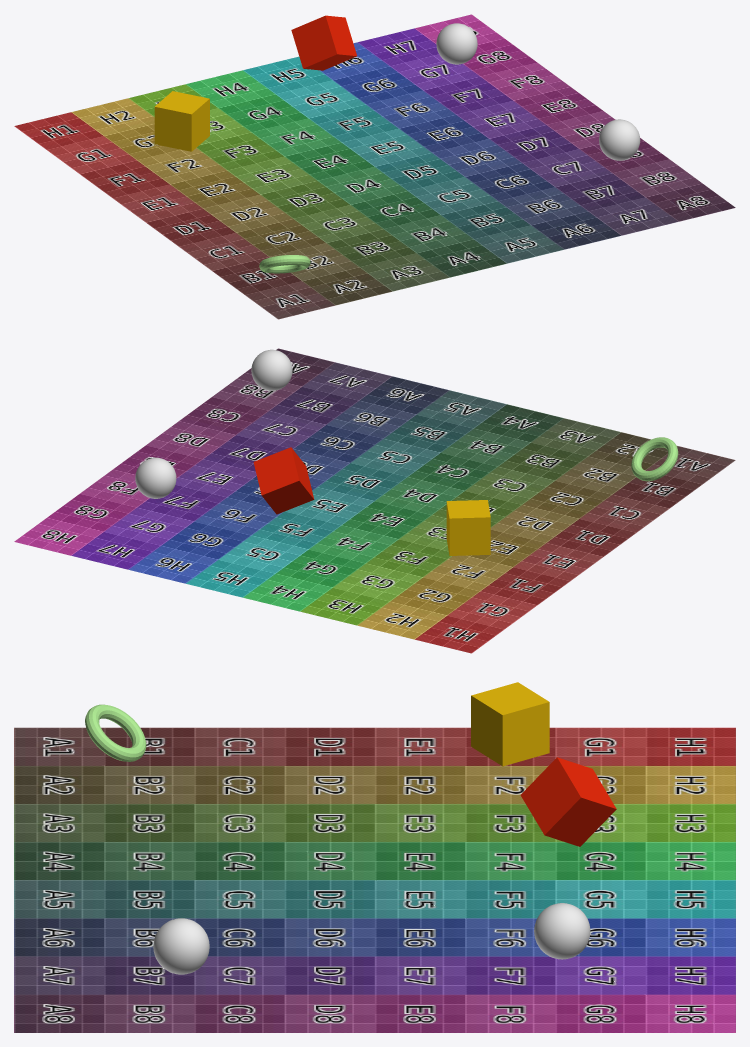
3 views of the same model, one above another, from view 1: azimuth 30°, elevation 25°; view 2: azimuth 150°, elevation 25°; view 3: azimuth 270°, elevation 25° (orthographic). The views are drawn at different scales.
Parts seen in each view (by area): view 1: Plane, Cube.004, Cube.001, Sphere.001, Sphere, Torus.002; view 2: Plane, Cube.001, Cube.004, Sphere.001, Sphere, Torus.002; view 3: Plane, Cube.004, Cube.001, Sphere, Sphere.001, Torus.002.
Part boxes in pixels (<box>): Plane: <box>14,14,735,319</box>; Cube.004: <box>154,91,209,151</box>; Cube.001: <box>291,15,356,70</box>; Sphere.001: <box>436,23,477,64</box>; Sphere: <box>599,119,640,160</box>; Torus.002: <box>259,255,310,273</box>; Plane: <box>14,348,735,653</box>; Cube.001: <box>253,447,314,514</box>; Cube.004: <box>446,500,490,555</box>; Sphere.001: <box>135,457,176,498</box>; Sphere: <box>251,349,292,390</box>; Torus.002: <box>631,437,678,481</box>; Plane: <box>14,727,735,1032</box>; Cube.004: <box>471,682,549,766</box>; Cube.001: <box>520,757,616,846</box>; Sphere: <box>153,918,209,974</box>; Sphere.001: <box>534,903,590,959</box>; Torus.002: <box>85,704,146,761</box>.
Bounding box in the file's own units: 25.55 × 5.25 × 25.55.
5 materials, 1 textured.
